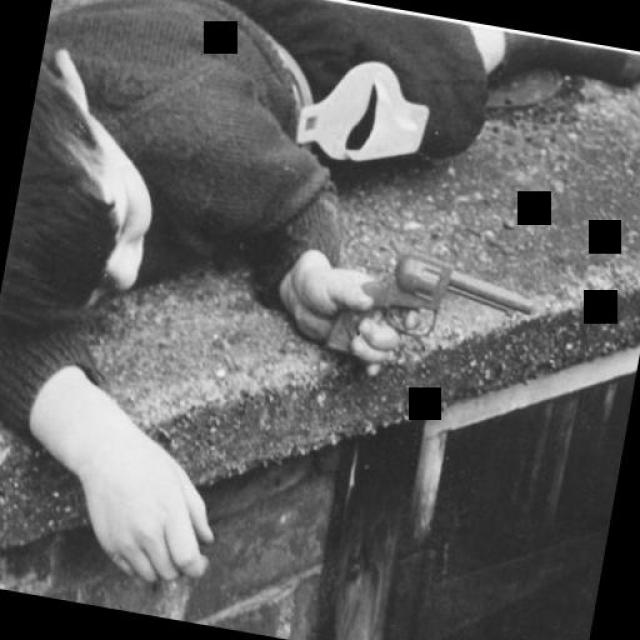gun: (320, 232, 538, 398)
